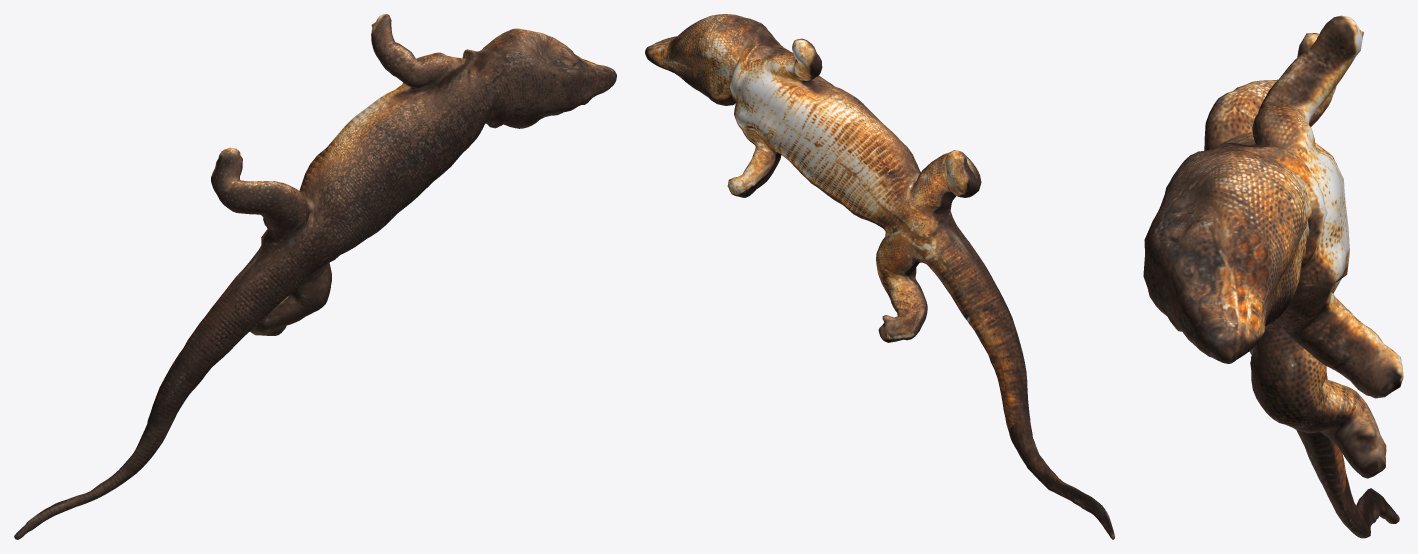
Rendered from lagarto.obj.
3 views of the same model, side by side, from view 1: azimuth 30°, elevation 25°; view 2: azimuth 150°, elevation 25°; view 3: azimuth 270°, elevation 25° (orthographic). The views are drawn at different scales.
Parts seen in each view (by area): view 1: polySurface1; view 2: polySurface1; view 3: polySurface1.
Part boxes in pixels (box(x1,y1,x2,y2)): polySurface1: box(14, 14, 616, 539); polySurface1: box(645, 14, 1114, 539); polySurface1: box(1143, 15, 1403, 538).
Size of the model in its own units: 681 by 525 by 150.
1 material, 1 textured.
